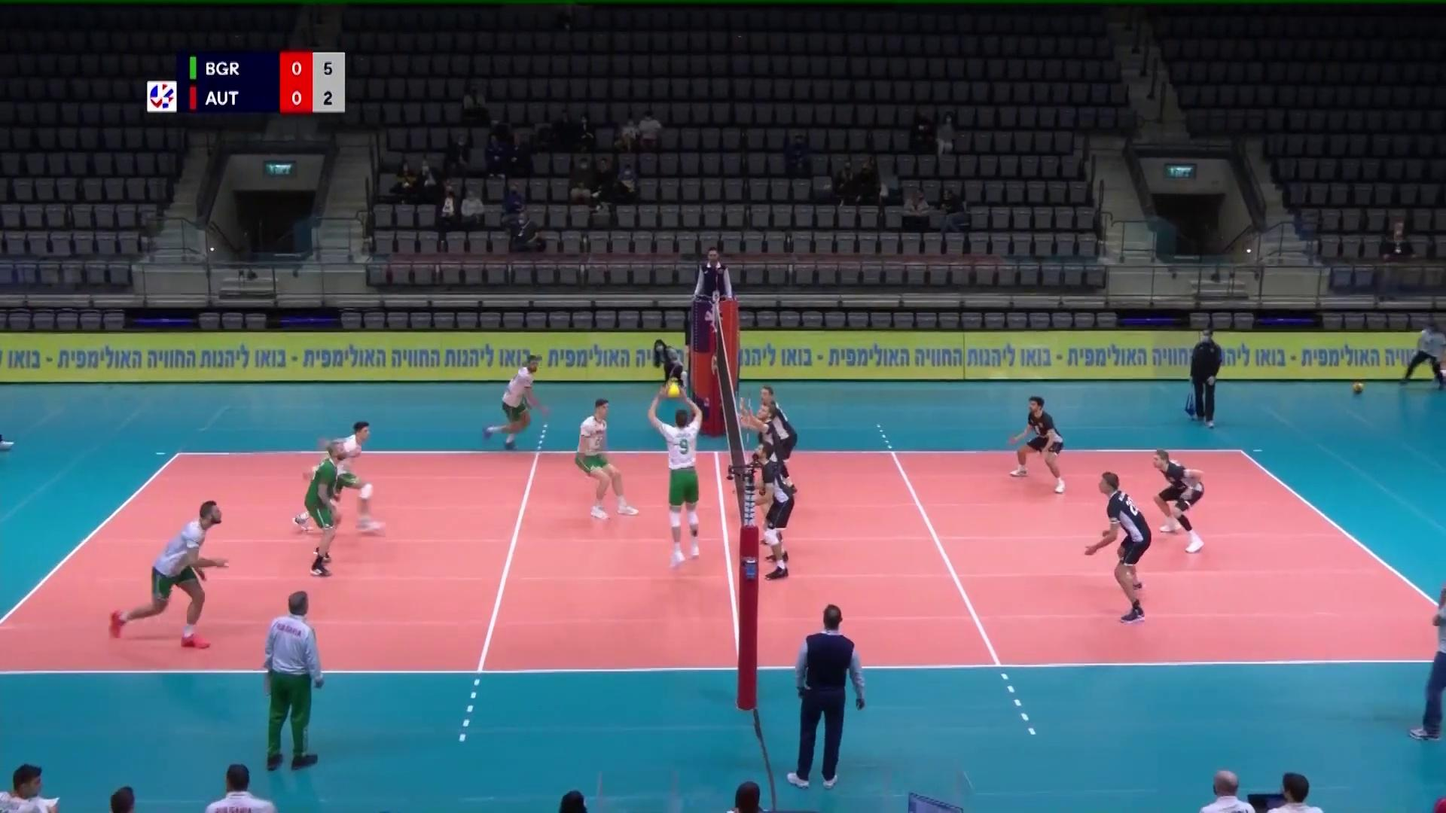ball: (667, 380, 682, 399)
